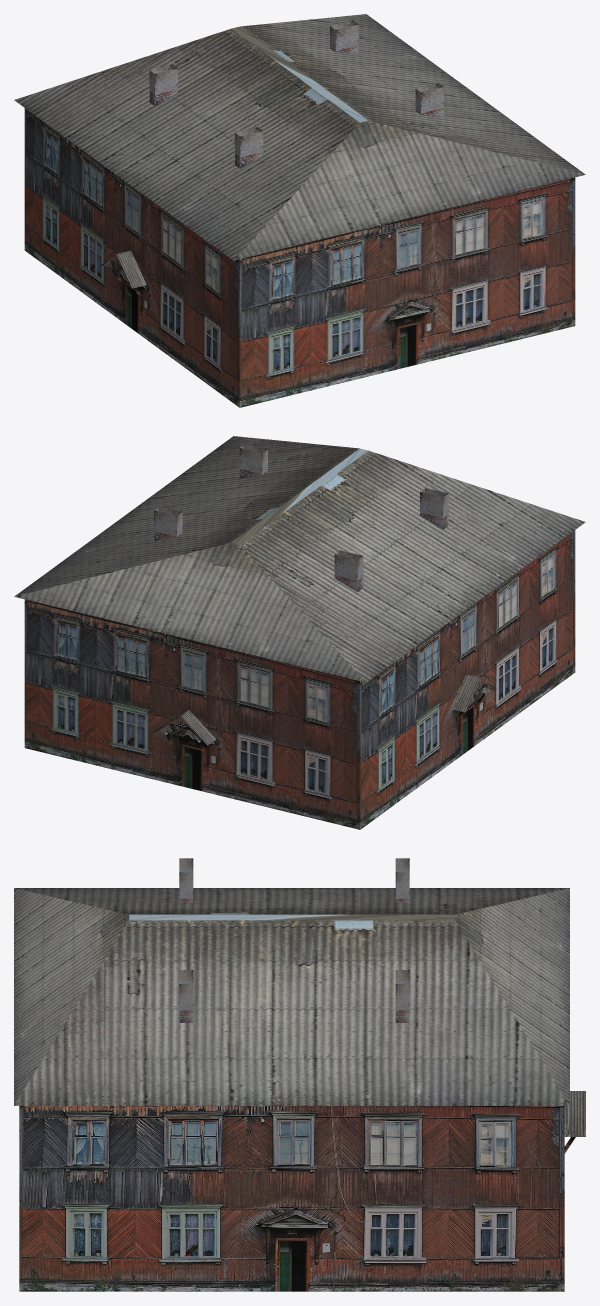
The model's file is d_dom_2et_14.FBX.
3 views of the same model, one above another, from view 1: azimuth 30°, elevation 25°; view 2: azimuth 150°, elevation 25°; view 3: azimuth 270°, elevation 25° (orthographic). The views are drawn at different scales.
Parts seen in each view (by area): view 1: d_dom_2et_14; view 2: d_dom_2et_14; view 3: d_dom_2et_14.
Part boxes in pixels (box(x1,y1,x2,y2)): d_dom_2et_14: box(14, 14, 585, 407); d_dom_2et_14: box(14, 436, 585, 829); d_dom_2et_14: box(14, 858, 585, 1291).
Bounding box in the file's own units: 14.93 × 16.29 × 8.5.
